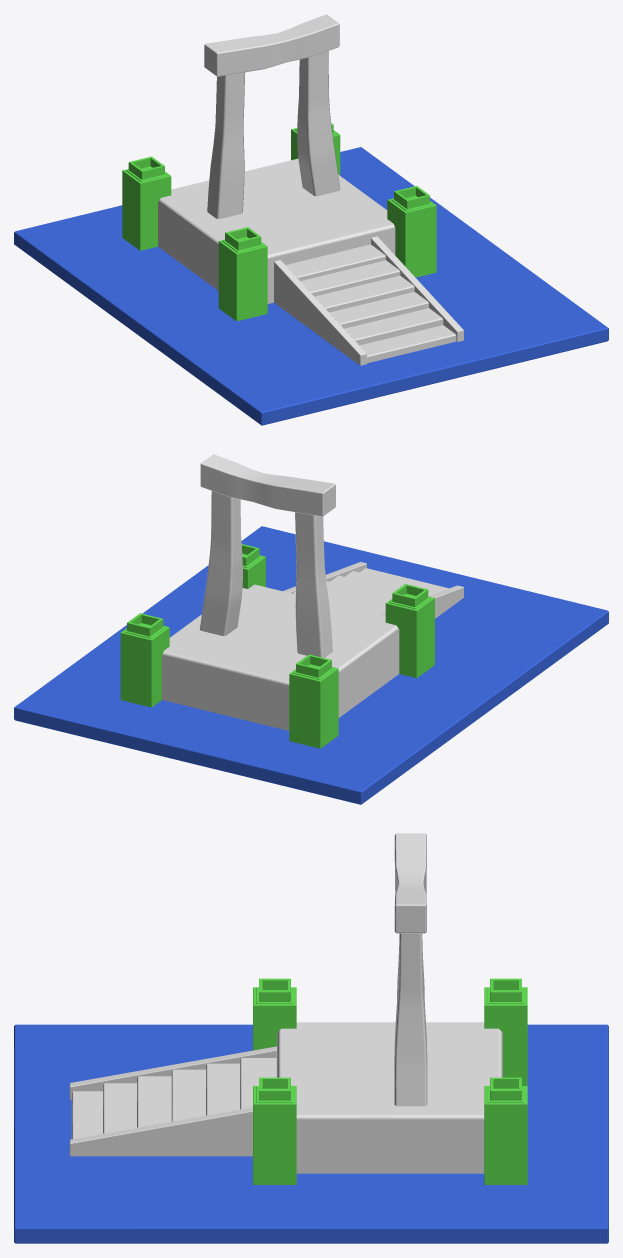
Rendered from portal2.fbx.
The picture shows the model from 3 angles, top to bottom: view 1: azimuth 30°, elevation 25°; view 2: azimuth 150°, elevation 25°; view 3: azimuth 270°, elevation 25°; orthographic projection. The views are drawn at different scales.
Visible parts, largest first — view 1: Portal.001; view 2: Portal.001; view 3: Portal.001.
Boxes of the visible parts, x1,y1,x2,y2 form: Portal.001: (14,14,608,425); Portal.001: (14,454,608,804); Portal.001: (14,833,608,1243).
Bounding box in the file's own units: 868 × 546 × 1071.
